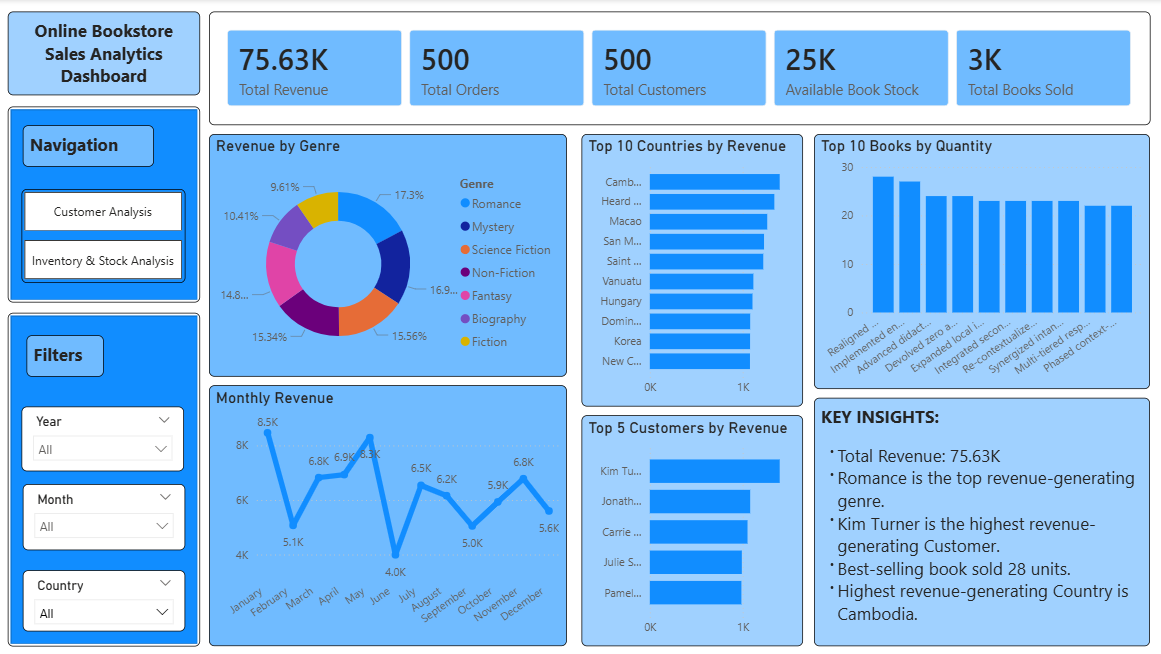

This screenshot's page, from the dashboard's own definition file:
{"tool":"powerbi","page":{"name":"Overview","canvas":[1280,720],"ordinal":0},"visuals":[{"type":"shape","box":[9.6,118,211.3,215.4],"z":0},{"type":"shape","box":[9.6,344.4,211.3,366.4],"z":1000},{"type":"textbox","box":[9.6,13.7,211.3,91.9],"z":2000},{"type":"cardVisual","fields":{"Data":["Orders.Total Revenue","Orders.Total Orders","Orders.Total Customers","Books.Available Book Stock","Books.Total Books Sold"]},"box":[230.5,13.7,1033.3,124.9],"z":3000},{"type":"lineChart","title":" Monthly Revenue","fields":{"Category":["Orders.Order_Date.Variation.Date Hierarchy.Month"],"Y":["Sum(Orders.Total_Amount)"]},"box":[230.5,424,392.5,286.8],"z":4000},{"type":"donutChart","title":"Revenue by Genre","fields":{"Category":["Books.Genre"],"Y":["Sum(Orders.Total_Amount)"]},"box":[230.5,148.2,392.5,266.2],"z":5000},{"type":"columnChart","title":"Top 10  Books by Quantity","fields":{"Category":["Books.Title"],"Y":["Sum(Orders.Quantity)"]},"box":[894.7,148.2,369.1,279.9],"z":6000},{"type":"clusteredBarChart","title":"Top 5 Customers by Revenue ","fields":{"Category":["Customers.Name"],"Y":["Sum(Orders.Total_Amount)"]},"box":[639.5,456.9,242.9,253.9],"z":7000},{"type":"barChart","title":"Top 10 Countries by Revenue","fields":{"Category":["Customers.Country"],"Y":["Sum(Orders.Total_Amount)"]},"box":[639.5,148.2,242.9,299.1],"z":8000},{"type":"slicer","fields":{"Values":["Customers.Country"]},"box":[26.1,627.1,178.4,67.2],"z":9000},{"type":"slicer","fields":{"Values":["Orders.Order_Date.Variation.Date Hierarchy.Year"]},"box":[24.7,447.3,178.4,71.4],"z":10000},{"type":"slicer","fields":{"Values":["Orders.Order_Date.Variation.Date Hierarchy.Month"]},"box":[26.1,532.4,178.4,72.7],"z":11000},{"type":"textbox","box":[894.7,437.7,369.1,273.1],"z":12000},{"type":"textbox","box":[30.2,369.1,85.1,45.3],"z":13000},{"type":"textbox","box":[26.1,138.6,144.1,45.3],"z":14000},{"type":"pageNavigator","box":[24.7,208.6,179.8,102.9],"z":15000}]}

Visuals, with their boxes in screenshot pixels (x1, y1, x2, y2), scaled from the page's 1280x720 canvas onto the 1161x654 screenshot:
shape: <region>9, 107, 200, 303</region>
shape: <region>9, 313, 200, 646</region>
textbox: <region>9, 12, 200, 96</region>
cardVisual - Orders.Total Revenue x Orders.Total Orders: <region>209, 12, 1146, 126</region>
" Monthly Revenue" lineChart: <region>209, 385, 565, 646</region>
"Revenue by Genre" donutChart: <region>209, 135, 565, 376</region>
"Top 10  Books by Quantity" columnChart: <region>812, 135, 1146, 389</region>
"Top 5 Customers by Revenue " clusteredBarChart: <region>580, 415, 800, 646</region>
"Top 10 Countries by Revenue" barChart: <region>580, 135, 800, 406</region>
slicer - Customers.Country: <region>24, 570, 185, 631</region>
slicer - Orders.Order_Date.Variation.Date Hierarchy.Year: <region>22, 406, 184, 471</region>
slicer - Orders.Order_Date.Variation.Date Hierarchy.Month: <region>24, 484, 185, 550</region>
textbox: <region>812, 398, 1146, 646</region>
textbox: <region>27, 335, 105, 376</region>
textbox: <region>24, 126, 154, 167</region>
pageNavigator: <region>22, 189, 185, 283</region>
